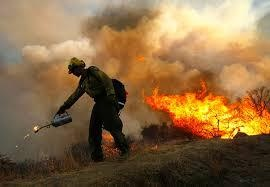fire: (146, 80, 270, 140)
